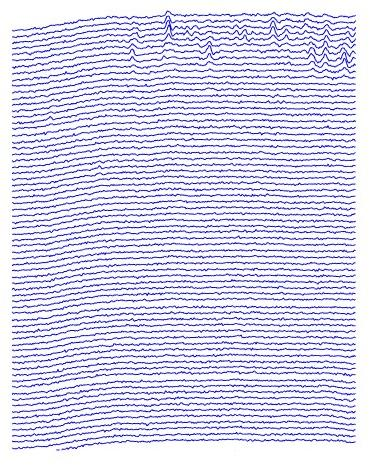defect: (305, 21, 353, 74), (263, 17, 291, 47), (198, 33, 220, 63), (159, 11, 176, 46), (233, 17, 249, 47)
